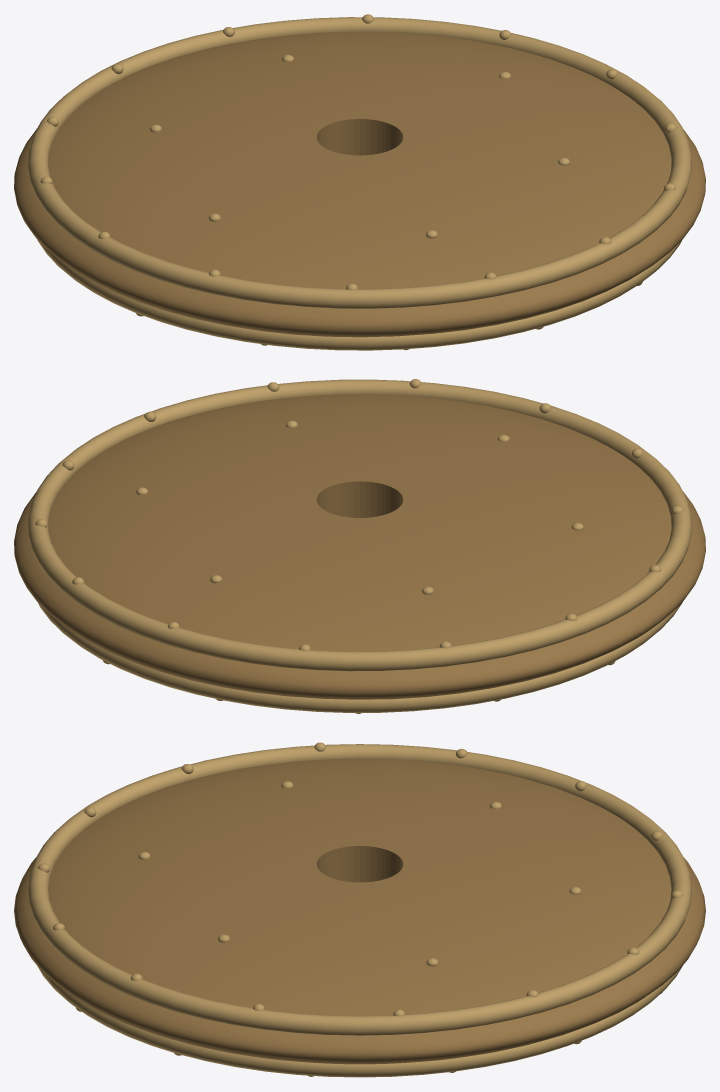
The picture shows the model from 3 angles, top to bottom: view 1: azimuth 30°, elevation 25°; view 2: azimuth 150°, elevation 25°; view 3: azimuth 270°, elevation 25°; orthographic projection.
Parts seen in each view (by area): view 1: inventory-member-001, inventory-member-029, inventory-member-014; view 2: inventory-member-001, inventory-member-029, inventory-member-014; view 3: inventory-member-001, inventory-member-029, inventory-member-014.
Boxes of the visible parts, x1,y1,x2,y2 form: inventory-member-001: (14, 31, 705, 337); inventory-member-029: (28, 17, 691, 308); inventory-member-014: (37, 240, 681, 350); inventory-member-001: (14, 394, 705, 699); inventory-member-029: (28, 379, 691, 671); inventory-member-014: (38, 602, 682, 712); inventory-member-001: (14, 758, 705, 1064); inventory-member-029: (28, 744, 691, 1035); inventory-member-014: (37, 966, 682, 1077).
Bounding box in the file's own units: 0.008 × 0.00119 × 0.008.
